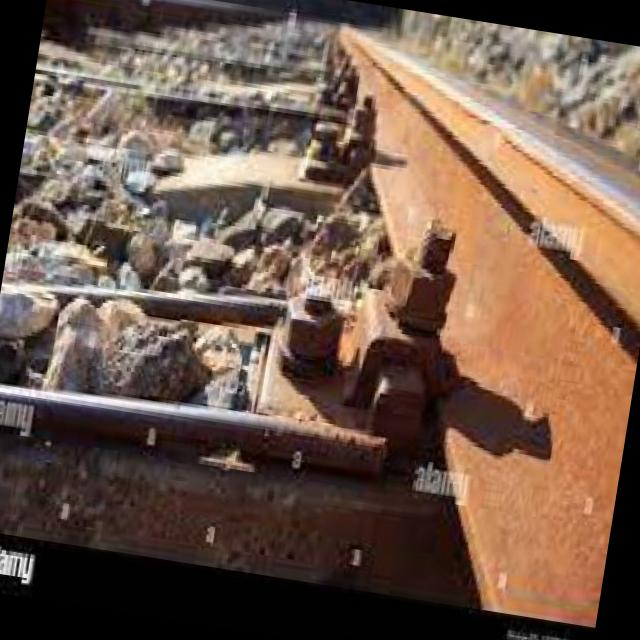defective: (236, 0, 640, 622)
